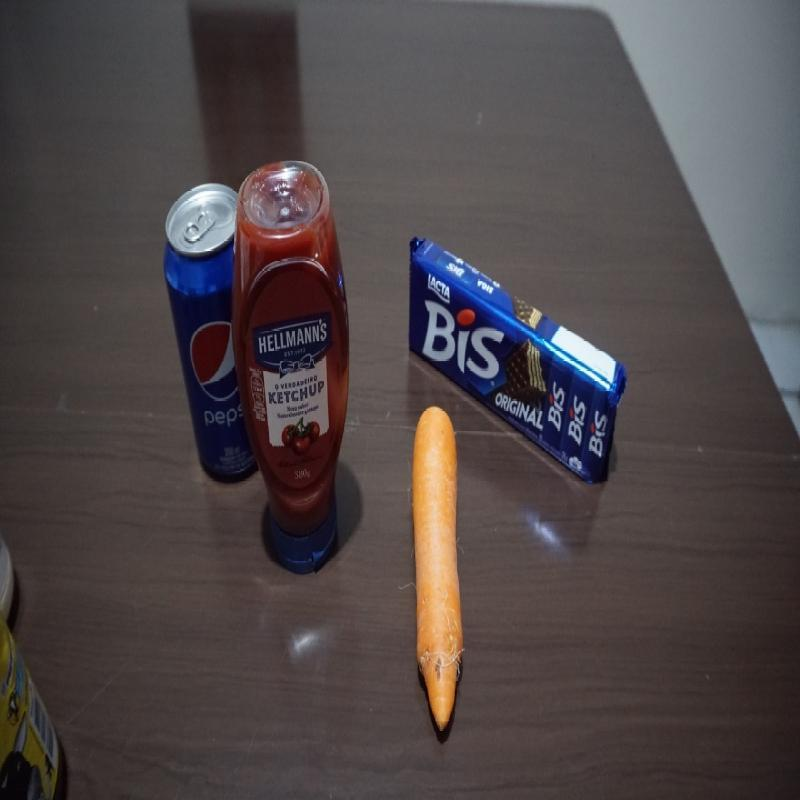Carrot: (410, 407, 464, 725)
Ketchup: (234, 161, 348, 583)
Soda can: (158, 170, 253, 491)
